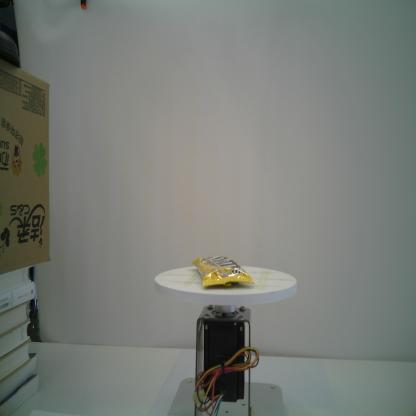Chocolate: (192, 256, 255, 286)
